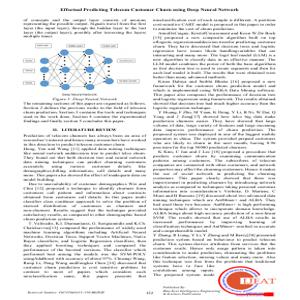diagram: (17, 41, 143, 93)
image: (217, 266, 279, 299)
text: (150, 16, 278, 276), (21, 127, 149, 281), (22, 97, 147, 125), (18, 17, 147, 39)
